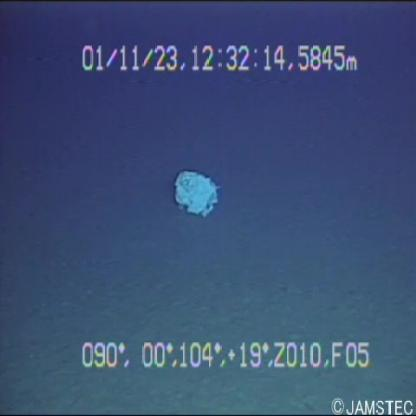Rác: (164, 164, 228, 222)
